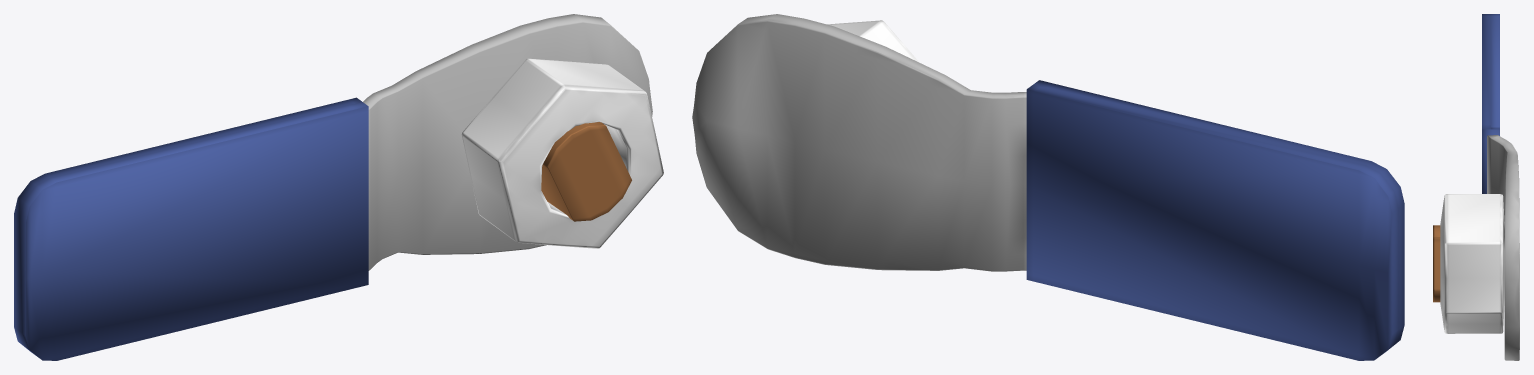
File: TCHANDLE4.fbx
3 renders of one model, left to right at view 1: azimuth 30°, elevation 25°; view 2: azimuth 150°, elevation 25°; view 3: azimuth 270°, elevation 25°, orthographic. The views are drawn at different scales.
Visible parts, largest first — view 1: TCHANDLE4_Baked; view 2: TCHANDLE4_Baked; view 3: TCHANDLE4_Baked.
Boxes of the visible parts, x1,y1,x2,y2 form: TCHANDLE4_Baked: (14, 14, 663, 360); TCHANDLE4_Baked: (692, 14, 1404, 360); TCHANDLE4_Baked: (1433, 14, 1519, 360).
Bounding box in the file's own units: 2.14 × 0.6969 × 0.3366.
Materials: 1 (1 with a texture image).
